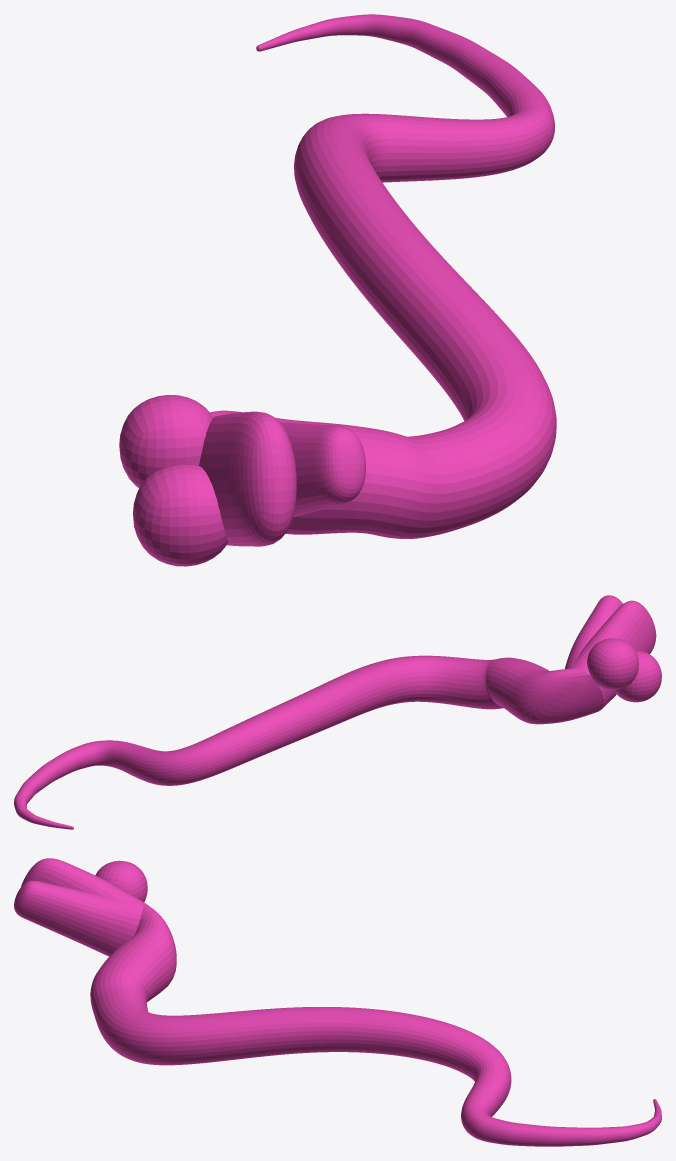
File: snake9.glb
3 renders of one model, top to bottom at view 1: azimuth 30°, elevation 25°; view 2: azimuth 150°, elevation 25°; view 3: azimuth 270°, elevation 25°, orthographic. The views are drawn at different scales.
Parts seen in each view (by area): view 1: Cube.004; view 2: Cube.004; view 3: Cube.004.
Boxes of the visible parts, x1,y1,x2,y2 form: Cube.004: (119, 14, 556, 566); Cube.004: (14, 595, 661, 829); Cube.004: (14, 858, 661, 1146).
Size of the model in its own units: 0.5559 by 0.1442 by 0.7178.
